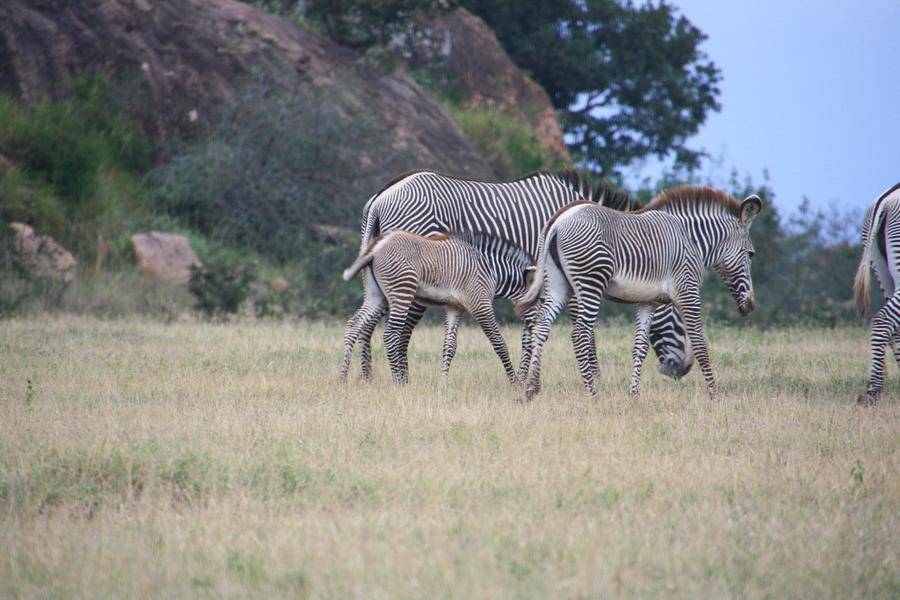zebra_grevys: (376, 161, 538, 232)
